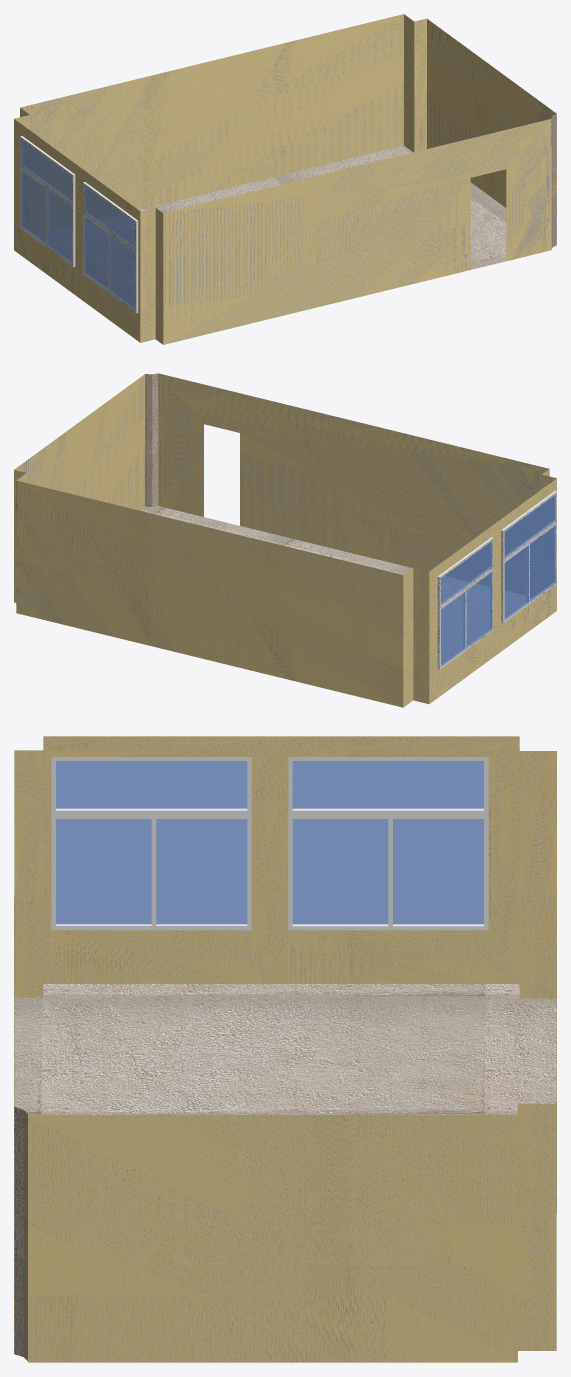
Rendered from LAB032.obj.
3 renders of one model, top to bottom at view 1: azimuth 30°, elevation 25°; view 2: azimuth 150°, elevation 25°; view 3: azimuth 270°, elevation 25°, orthographic. The views are drawn at different scales.
Parts seen in each view (by area): view 1: Mesh13 LAB032 Model, Mesh1 ventana1_1 LAB032 Model, Mesh7 ventana1_2 LAB032 Model; view 2: Mesh13 LAB032 Model, Mesh7 ventana1_2 LAB032 Model, Mesh1 ventana1_1 LAB032 Model; view 3: Mesh13 LAB032 Model, Mesh1 ventana1_1 LAB032 Model, Mesh7 ventana1_2 LAB032 Model.
Part boxes in pixels (x1,y1,x2,y2): Mesh13 LAB032 Model: [14, 14, 556, 344]; Mesh1 ventana1_1 LAB032 Model: [83, 182, 138, 313]; Mesh7 ventana1_2 LAB032 Model: [20, 136, 75, 267]; Mesh13 LAB032 Model: [14, 373, 556, 707]; Mesh7 ventana1_2 LAB032 Model: [437, 537, 493, 669]; Mesh1 ventana1_1 LAB032 Model: [501, 491, 556, 623]; Mesh13 LAB032 Model: [14, 736, 556, 1362]; Mesh1 ventana1_1 LAB032 Model: [51, 757, 251, 930]; Mesh7 ventana1_2 LAB032 Model: [288, 757, 488, 930].
Bounding box in the file's own units: 9.89 × 3 × 5.96.
Materials: 8 (2 with a texture image).
